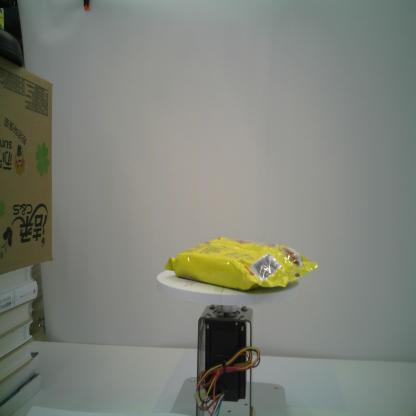Instant Noodles: (164, 236, 319, 292)
